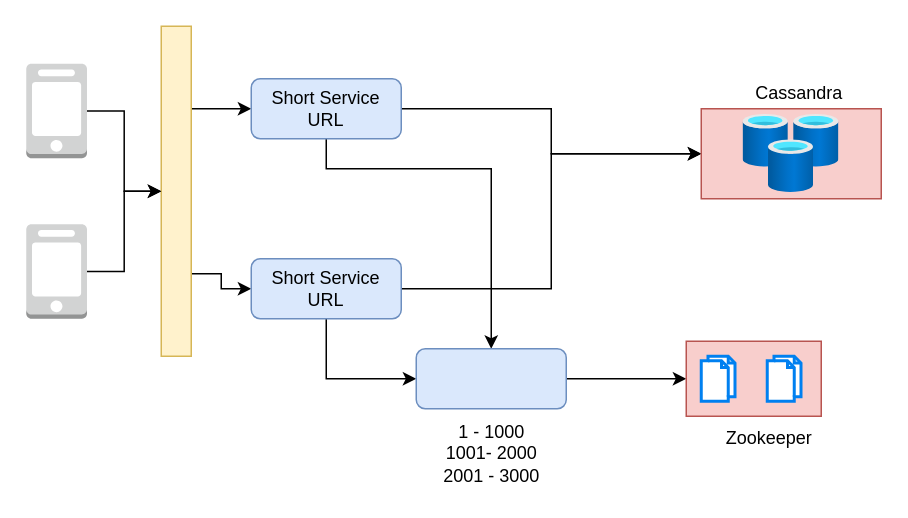
Some shapes in this 908 by 518 pixel diagram are drawn without their labels. Here are the shapes that lost their labels. From the top down, the centre of each, then its label:
At [175,190]: "LB".
At [490,378]: "Token Service".
